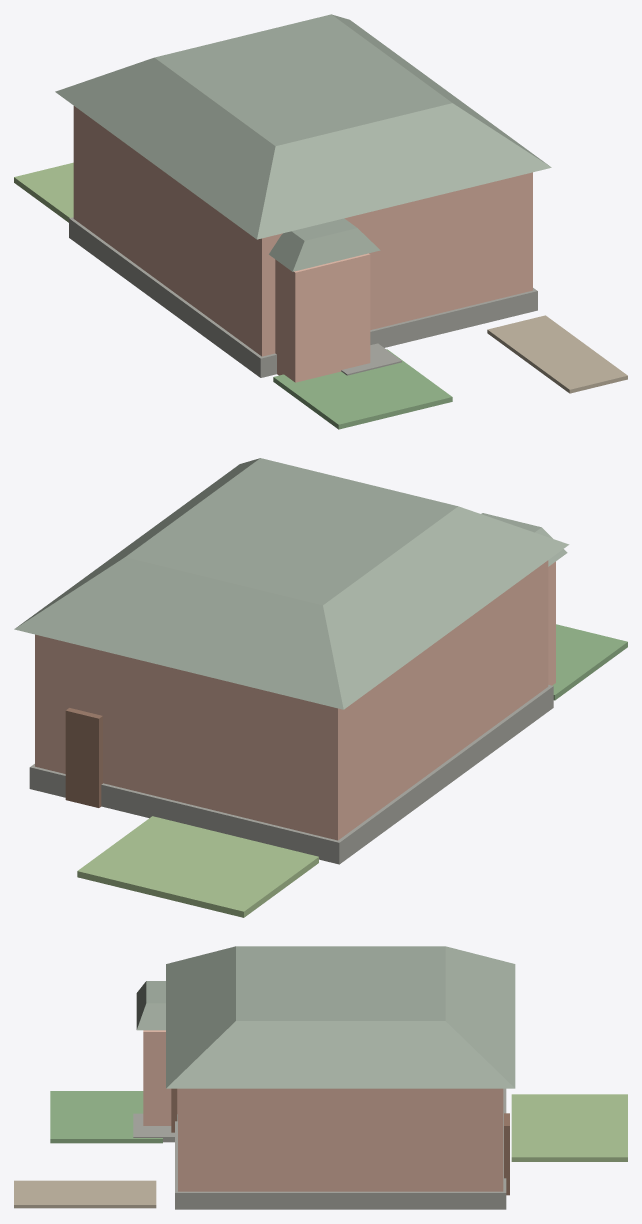
Rendered from coastal_orchard_house_v1.lod2.glb.
The picture shows the model from 3 angles, top to bottom: view 1: azimuth 30°, elevation 25°; view 2: azimuth 150°, elevation 25°; view 3: azimuth 270°, elevation 25°; orthographic projection. The views are drawn at different scales.
Visible parts, largest first — view 1: MainRoof, MainBody, OrchardBay, StonePlinth, FrontGreenVerge, Driveway, OrchardBayRoof, RearYardPatch, PublicStep; view 2: MainRoof, MainBody, RearYardPatch, StonePlinth, ServiceDoor, FrontGreenVerge, OrchardBay; view 3: MainRoof, MainBody, RearYardPatch, StonePlinth, FrontGreenVerge, Driveway, OrchardBay, OrchardBayRoof, PublicStep, ServiceDoor.
Boxes of the visible parts, x1,y1,x2,y2 form: MainRoof: (55, 14, 551, 239); MainBody: (73, 106, 532, 356); OrchardBay: (275, 253, 370, 382); StonePlinth: (69, 217, 537, 377); FrontGreenVerge: (273, 349, 452, 429); Driveway: (487, 315, 627, 393); OrchardBayRoof: (269, 218, 380, 271); RearYardPatch: (14, 162, 73, 222); PublicStep: (341, 343, 401, 375); MainRoof: (14, 458, 569, 709); MainBody: (35, 560, 548, 840); RearYardPatch: (77, 816, 318, 917); StonePlinth: (29, 685, 553, 864); ServiceDoor: (65, 708, 102, 807); FrontGreenVerge: (552, 624, 627, 700); OrchardBay: (548, 561, 555, 685); MainRoof: (166, 946, 515, 1088); MainBody: (178, 1088, 503, 1191); RearYardPatch: (511, 1094, 627, 1161); StonePlinth: (175, 1088, 506, 1209); FrontGreenVerge: (50, 1091, 162, 1143); Driveway: (14, 1180, 156, 1208); OrchardBay: (143, 1030, 177, 1125); OrchardBayRoof: (136, 981, 165, 1030); PublicStep: (133, 1113, 174, 1142); ServiceDoor: (504, 1113, 509, 1195).
Bounding box in the file's own units: 8.87 × 5.57 × 18.49.
